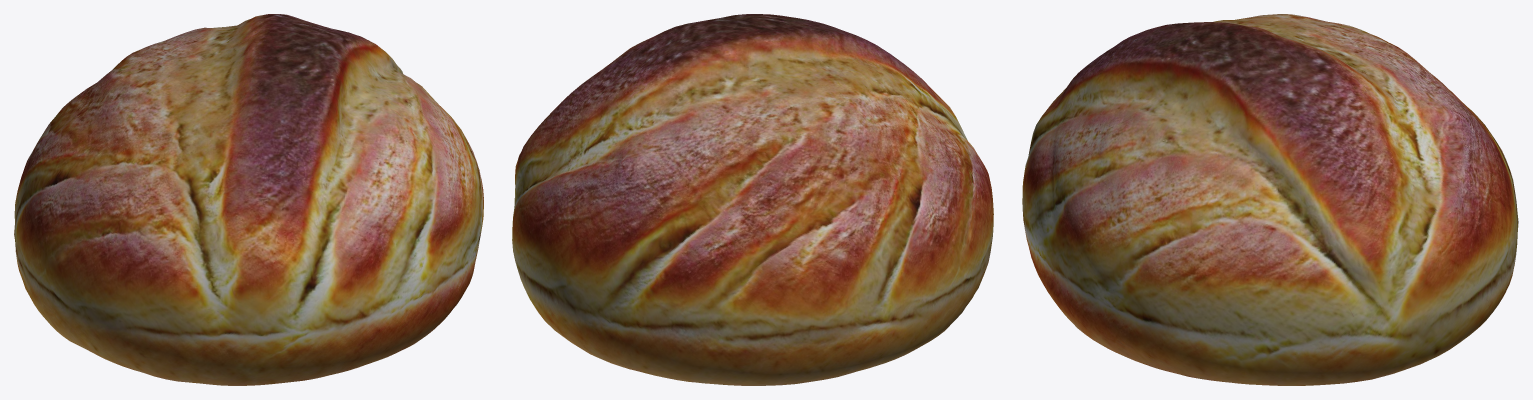
Rendered from bread.glb.
The picture shows the model from 3 angles, left to right: view 1: azimuth 30°, elevation 25°; view 2: azimuth 150°, elevation 25°; view 3: azimuth 270°, elevation 25°; orthographic projection. The views are drawn at different scales.
Parts seen in each view (by area): view 1: mesh_base_material_0; view 2: mesh_base_material_0; view 3: mesh_base_material_0.
Part boxes in pixels (<box>): mesh_base_material_0: <box>14,14,483,385</box>; mesh_base_material_0: <box>512,14,993,385</box>; mesh_base_material_0: <box>1022,14,1518,385</box>.
Bounding box in the file's own units: 0.9993 × 0.631 × 0.9968.
Materials: 1 (1 with a texture image).
